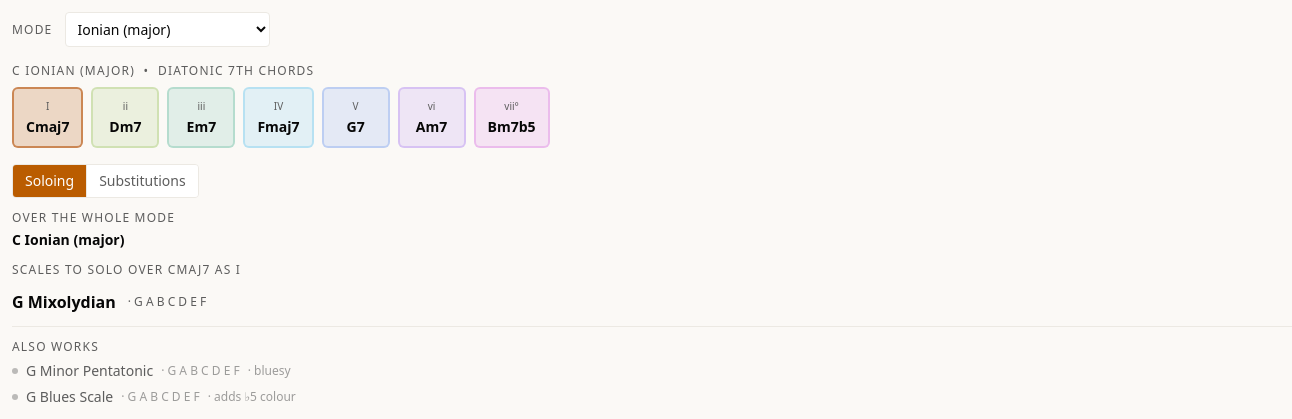
Test: HarmonyTab › hides solo scales panel when same chord is clicked again (toggle)
The width and height of the screenshot is (1292, 419).
Click the button "V G7": (356, 117) [322, 87, 390, 148]
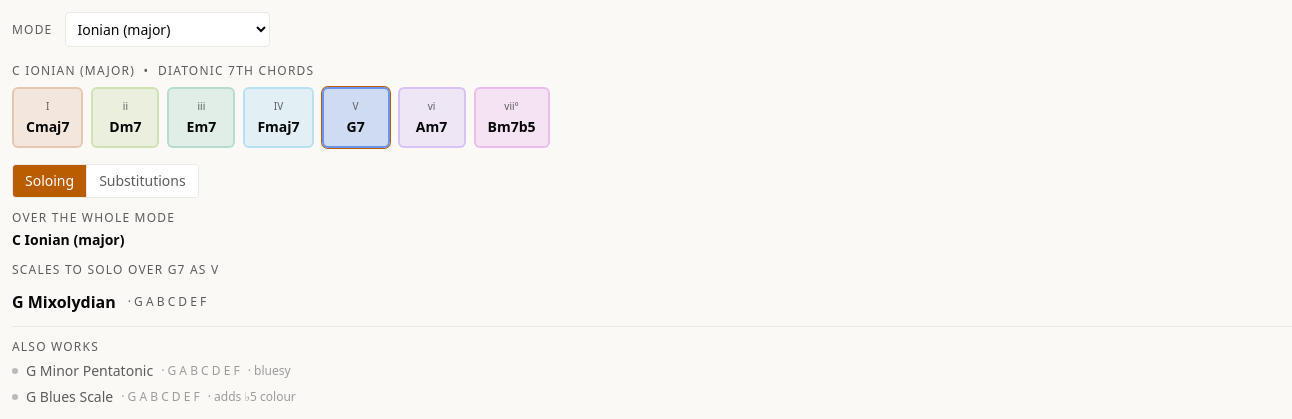
Check: the text "Scales to solo over G7 as V" is shown, box [12, 260, 219, 278]
Click the button "V G7": (356, 117) [322, 87, 390, 148]
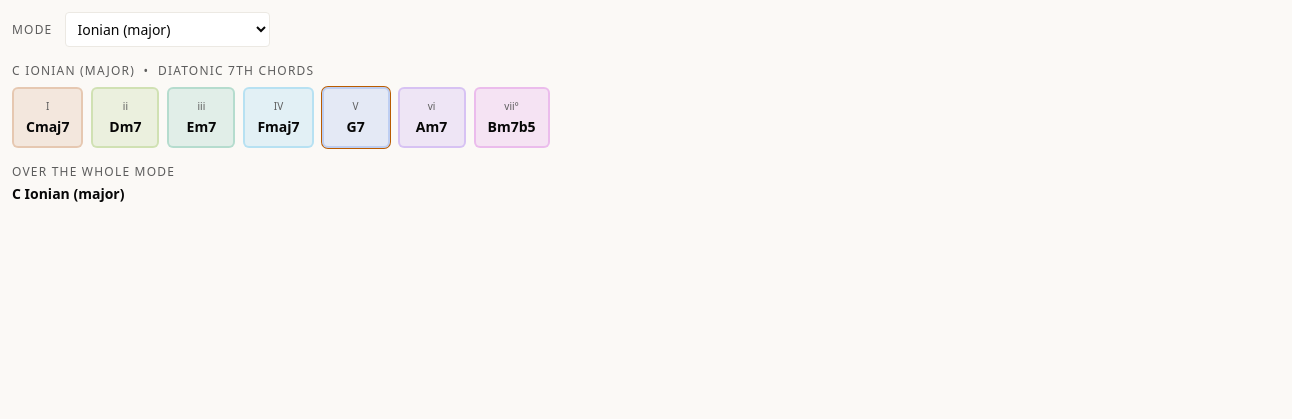
Check: the text "Scales to solo over" is gone
